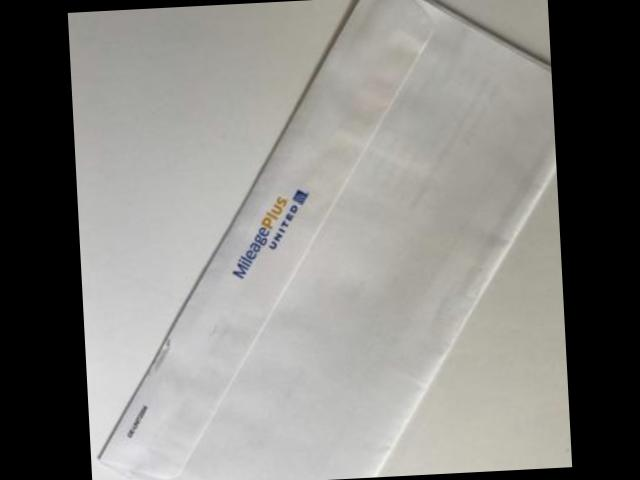cardboard paper: (98, 0, 555, 480)
